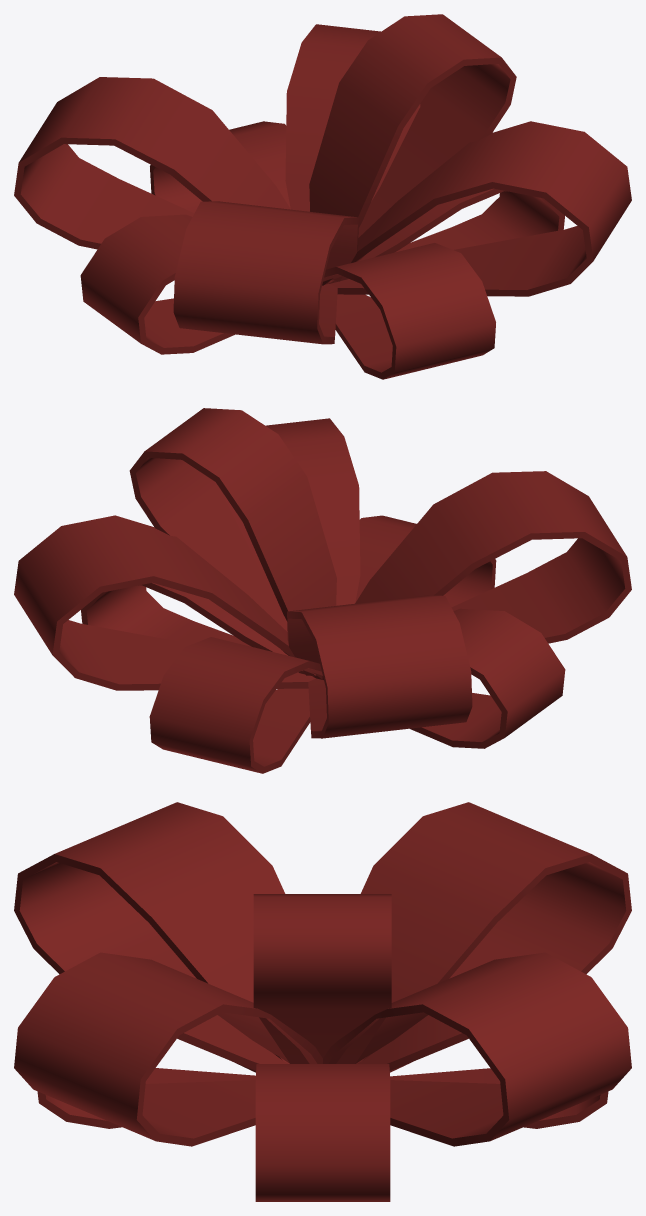
Rendered from Bow_02.fbx.
3 views of the same model, one above another, from view 1: azimuth 30°, elevation 25°; view 2: azimuth 150°, elevation 25°; view 3: azimuth 270°, elevation 25° (orthographic). The views are drawn at different scales.
Parts seen in each view (by area): view 1: Bow_02; view 2: Bow_02; view 3: Bow_02.
Boxes of the visible parts, left/top/right/bottom form: Bow_02: left=14, top=14, right=631, bottom=379; Bow_02: left=14, top=408, right=631, bottom=773; Bow_02: left=14, top=802, right=631, bottom=1201.
Bounding box in the file's own units: 0.1703 × 0.081 × 0.1703.
